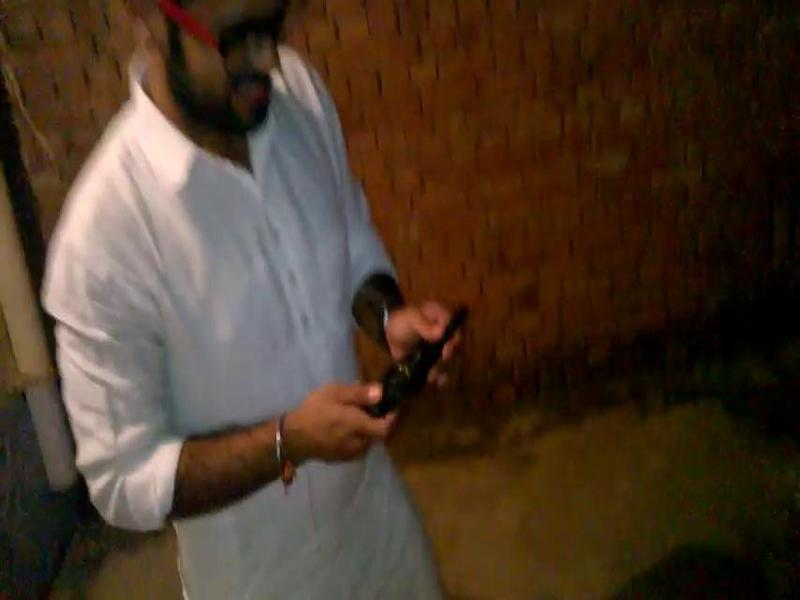Revolver: (320, 292, 477, 439)
